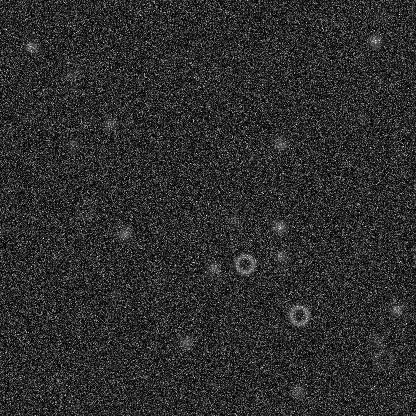Ring: (371, 347, 395, 371), (286, 303, 310, 327), (72, 197, 96, 221), (232, 251, 256, 275)
Spot: (368, 331, 384, 347), (388, 301, 404, 317), (225, 212, 241, 228), (290, 383, 306, 399), (116, 225, 132, 241), (64, 66, 80, 82), (205, 259, 221, 275), (352, 109, 368, 125), (101, 115, 117, 131), (158, 52, 174, 68), (22, 38, 38, 54), (273, 249, 289, 265), (271, 219, 287, 235), (371, 7, 387, 23), (272, 136, 288, 152), (366, 32, 382, 48), (65, 136, 81, 152), (19, 109, 35, 125), (177, 334, 193, 350), (107, 287, 123, 303)
